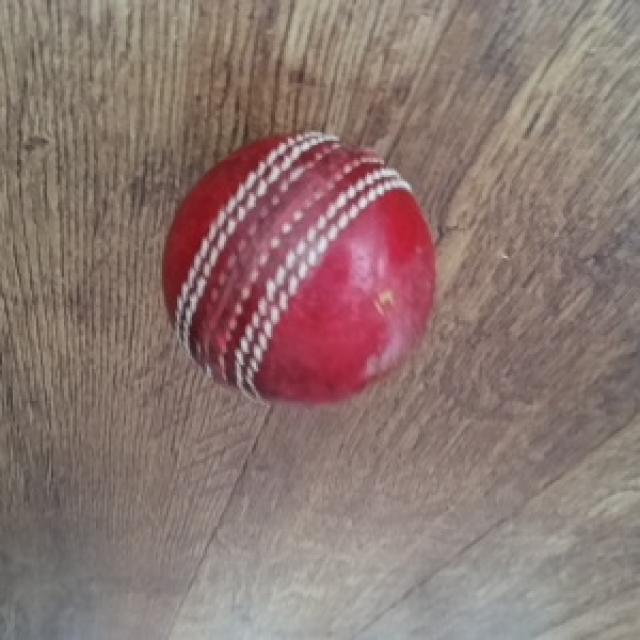ball: (160, 132, 439, 410)
